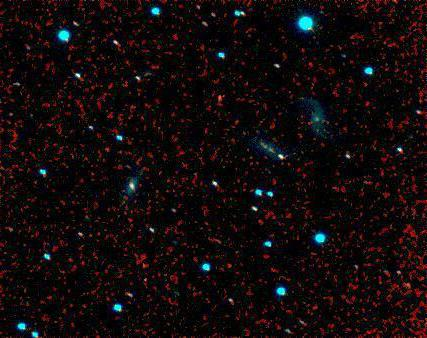star: (204, 84, 234, 114)
